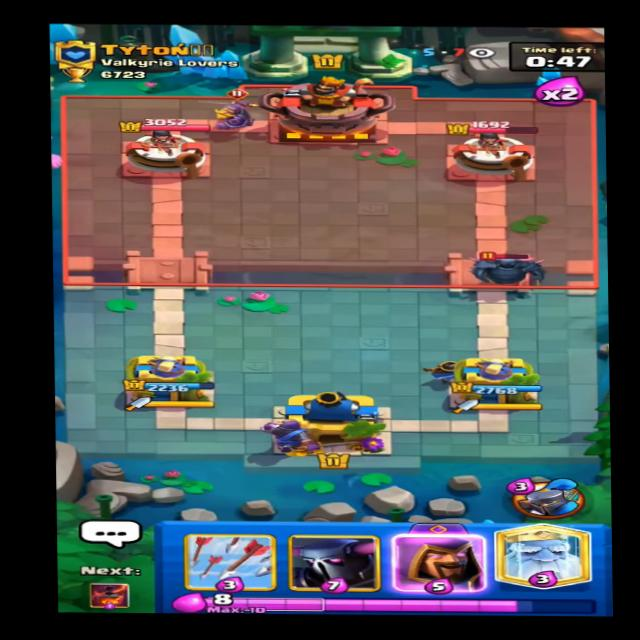evo-knight: (200, 88, 273, 133)
pekka: (468, 241, 550, 291)
